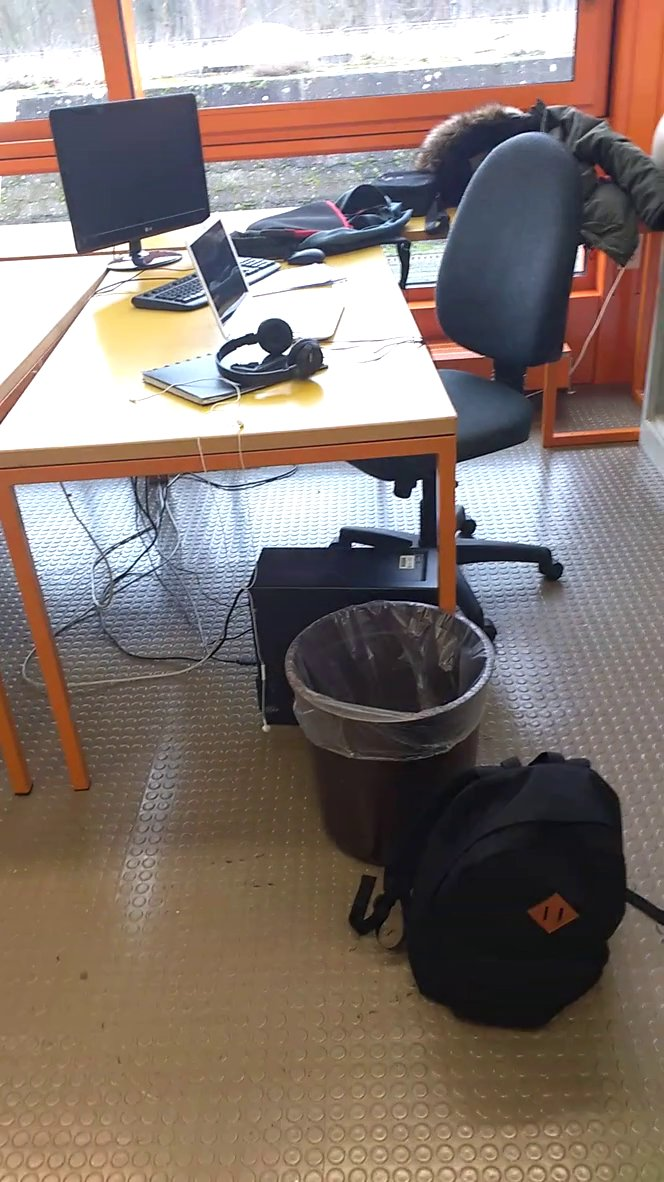bag: (343, 739, 660, 1048)
bin: (260, 579, 497, 874)
chair: (363, 128, 603, 609)
laptop: (174, 207, 351, 351)
